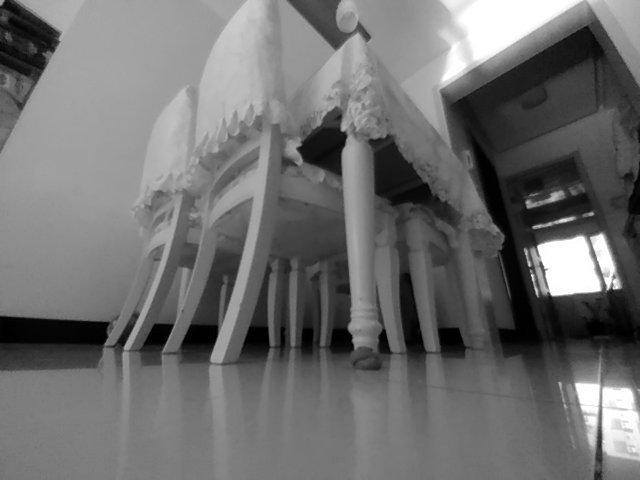pet feces: (347, 345, 381, 371)
